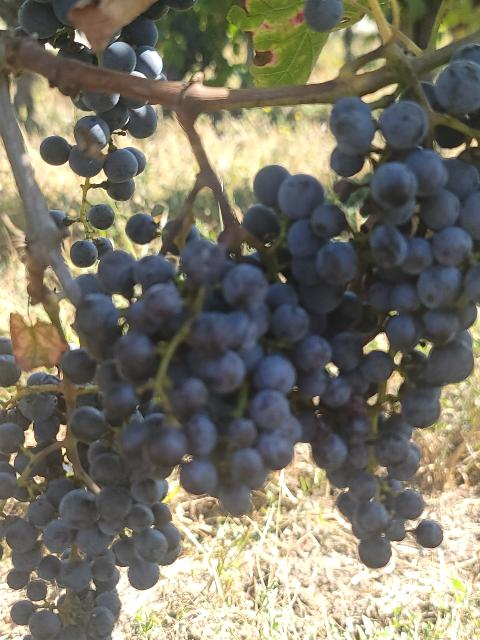grapes: (278, 96, 480, 559), (74, 239, 321, 514), (0, 339, 122, 640), (40, 91, 158, 201), (19, 0, 162, 80), (424, 45, 480, 125), (70, 239, 112, 268), (88, 205, 111, 229)
